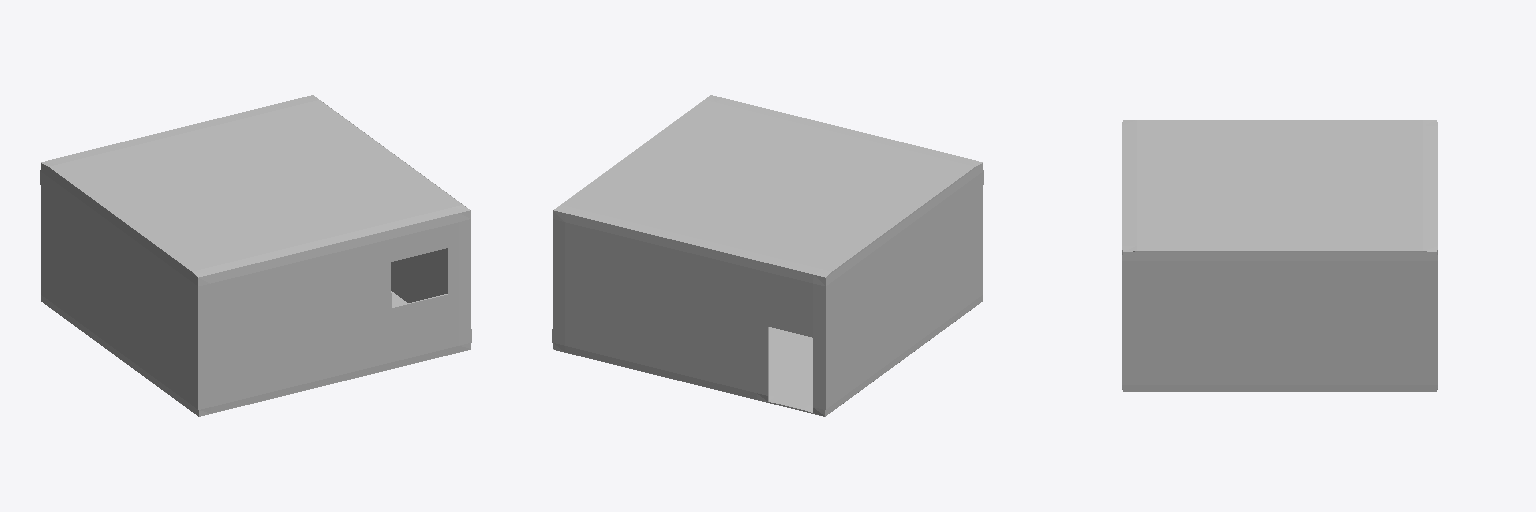
The model's file is casa.obj.
3 renders of one model, left to right at view 1: azimuth 30°, elevation 25°; view 2: azimuth 150°, elevation 25°; view 3: azimuth 270°, elevation 25°, orthographic.
Parts seen in each view (by area): view 1: Plano.001; view 2: Plano.001; view 3: Plano.001.
Boxes of the visible parts, x1=… form: Plano.001: x1=40, y1=95, x2=471, y2=416; Plano.001: x1=552, y1=95, x2=983, y2=416; Plano.001: x1=1122, y1=120, x2=1437, y2=391.
Size of the model in its own units: 148 by 73.3 by 148.